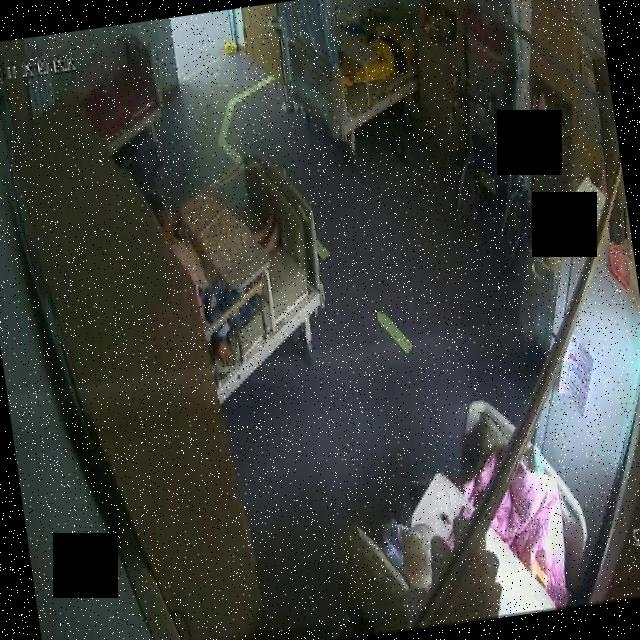bed: (327, 385, 598, 638), (160, 150, 333, 396), (280, 5, 425, 140), (73, 30, 170, 156)
